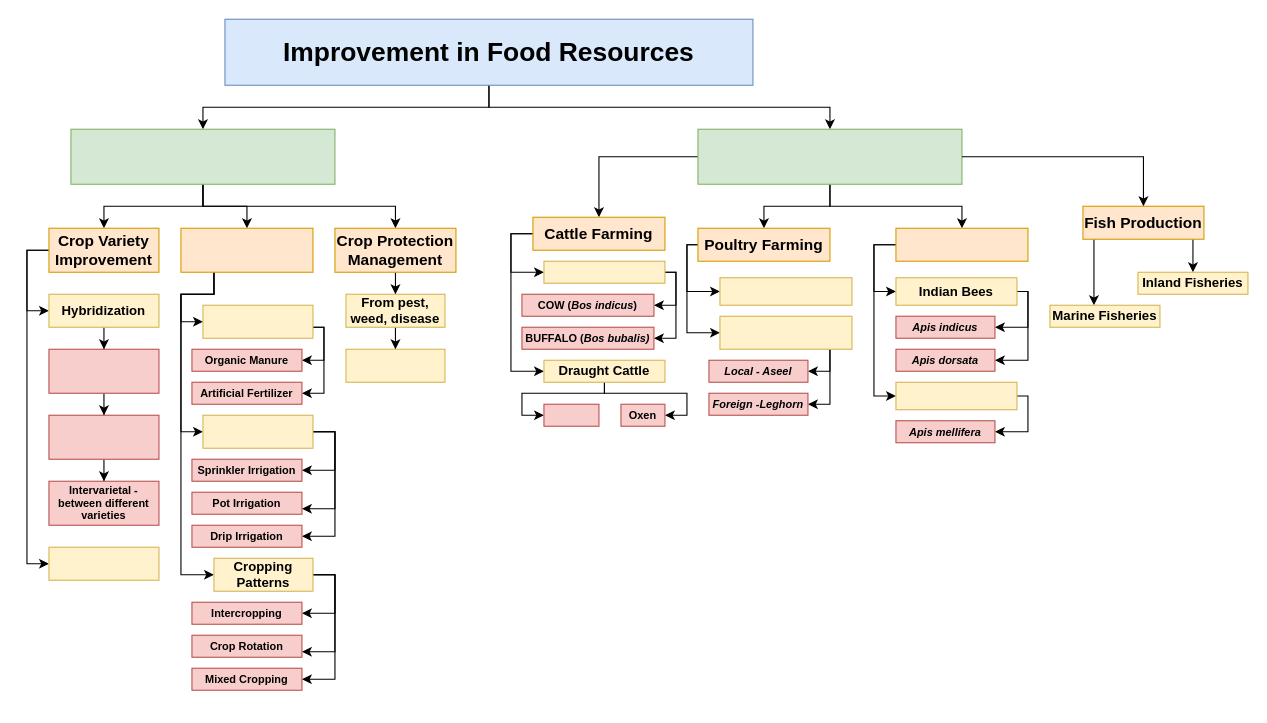
This 1267x723 diagram has some shape labels left out. Here are the shapes that lost their labels. From the top down, the centre of each, then its label:
(202,156): Agriculture
(829,156): Animal Husbandry
(246,249): Crop production Management
(961,244): Beekeeping
(604,271): Milch Cattle
(785,291): Layers & Broilers
(257,321): Nutrient Management
(785,332): Local, Foreign and Hybrid Varieties
(103,370): Intergeneric - between different genes
(395,365): By weedicides and pesticides
(571,414): Buffalo
(956,395): Italian Bee
(103,436): Interspecific - between different species
(257,431): Irrigation
(103,563): Genetically Modified Crops
